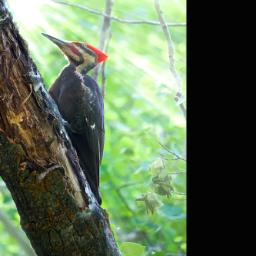Woodpecker: (39, 31, 110, 207)
